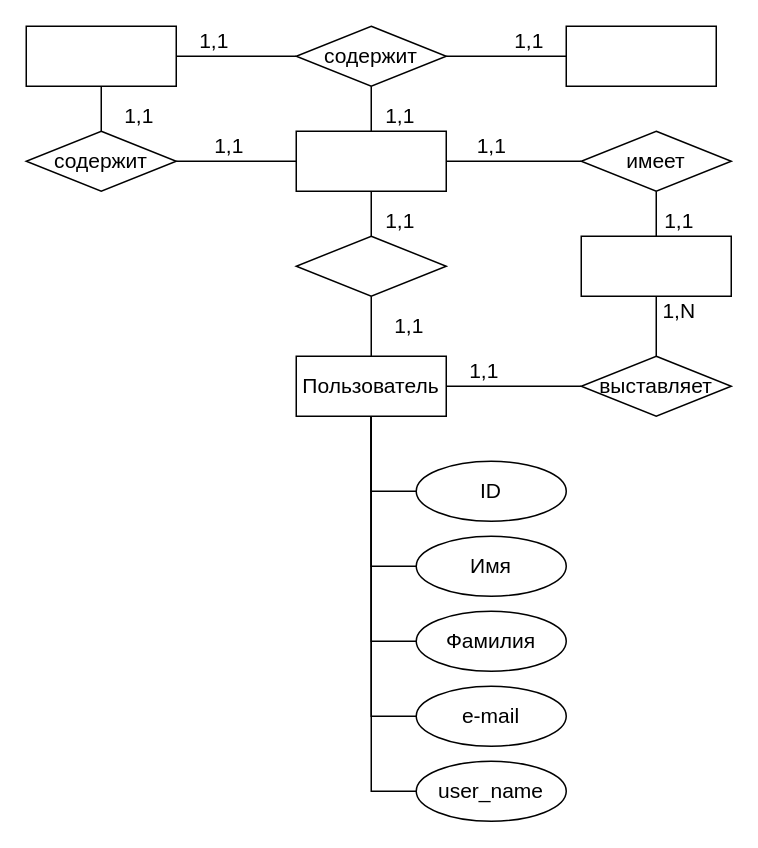
The diagram is 758 pixels wide and 848 high, and some of its shapes have lost their labels. Here are the shapes that lost their labels. From the top down, the box of each, then its label:
(25, 25, 176, 86): Ландшафт
(565, 25, 716, 86): Освещение
(295, 130, 446, 191): Сцена
(295, 235, 446, 296): владеет
(580, 235, 731, 296): Рейтинг
